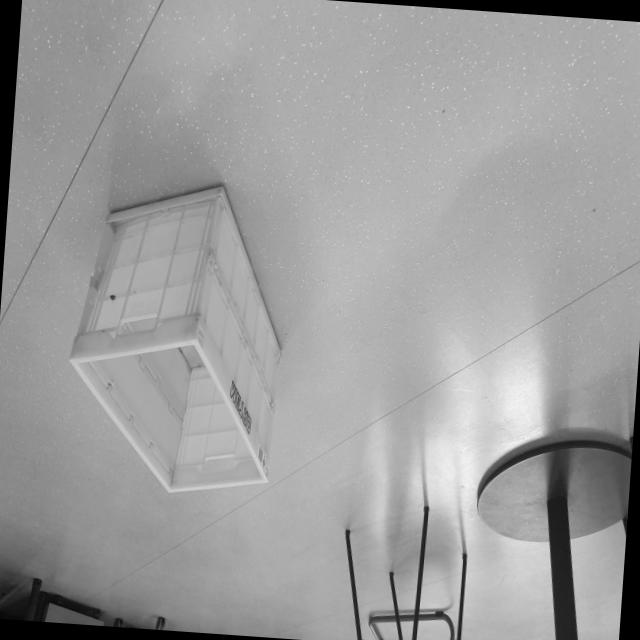box: (50, 168, 306, 512)
